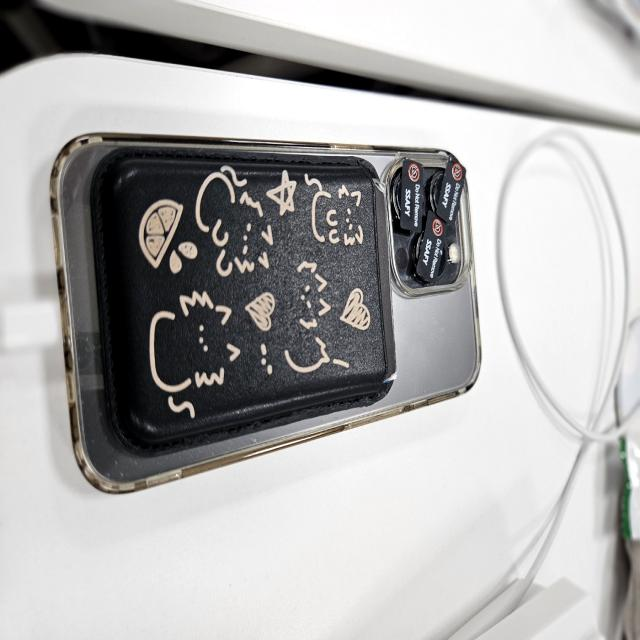phone: (45, 132, 483, 496)
sticker: (418, 210, 450, 284), (436, 156, 466, 221), (397, 158, 422, 234)
